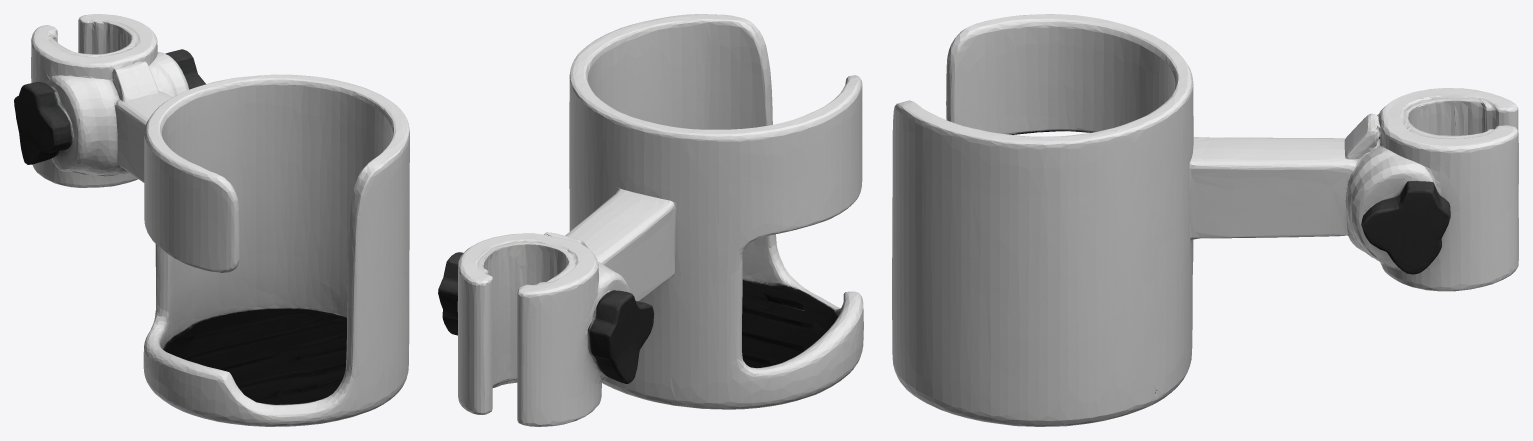
File: PortaVasos.glb
3 views of the same model, side by side, from view 1: azimuth 30°, elevation 25°; view 2: azimuth 150°, elevation 25°; view 3: azimuth 270°, elevation 25° (orthographic). The views are drawn at different scales.
Parts seen in each view (by area): view 1: world; view 2: world; view 3: world.
Boxes of the visible parts, box(x1,y1,x2,y2) form: world: box(14, 14, 409, 426); world: box(438, 14, 863, 426); world: box(892, 14, 1518, 426).
Bounding box in the file's own units: 0.4956 × 0.5094 × 1.
1 material, 1 textured.
